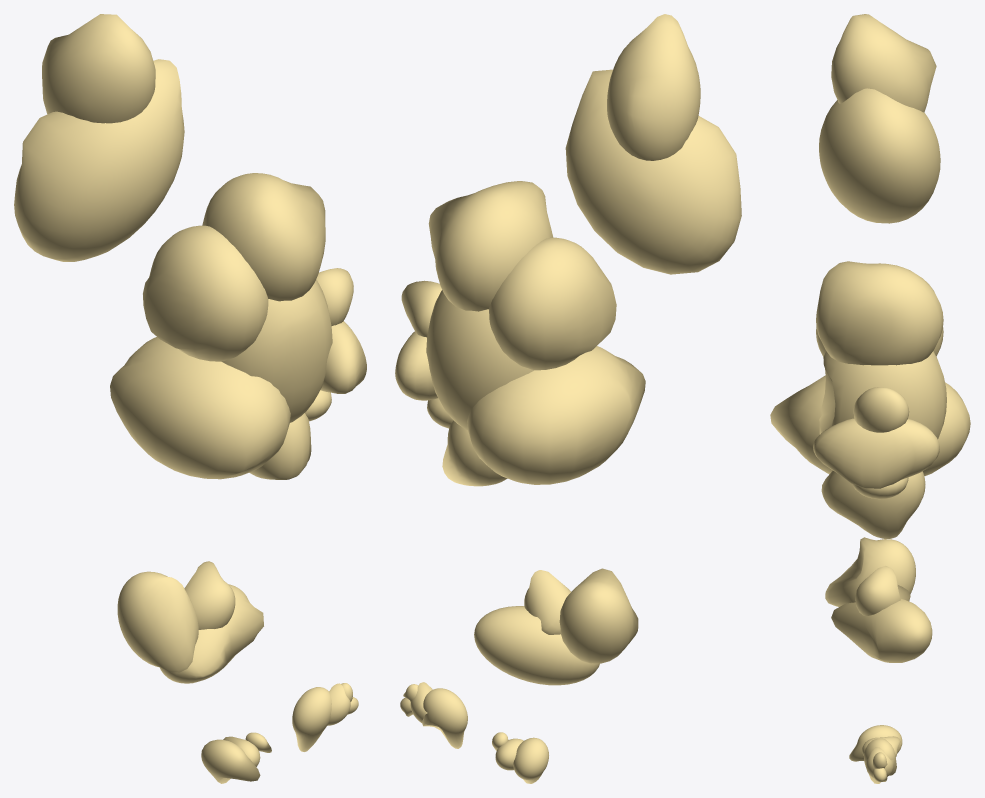
Rendered from aguaVapor.fbx.
The picture shows the model from 3 angles, left to right: view 1: azimuth 30°, elevation 25°; view 2: azimuth 150°, elevation 25°; view 3: azimuth 270°, elevation 25°; orthographic projection. The views are drawn at different scales.
Visible parts, largest first — view 1: pSphere20, pSphere4, pSphere2, pSphere3, pSphere21, pSphere1, pSphere9, pSphere10, pSphere11, pSphere7, pSphere5, pSphere13 (+3 smaller); view 2: pSphere20, pSphere4, pSphere2, pSphere3, pSphere21, pSphere1, pSphere10, pSphere9, pSphere5, pSphere7, pSphere11, pSphere13 (+2 smaller); view 3: pSphere20, pSphere3, pSphere21, pSphere7, pSphere1, pSphere4, pSphere10, pSphere5, pSphere9, pSphere8, pSphere11, pSphere18 (+2 smaller).
Boxes of the visible parts, x1=… form: pSphere20: x1=14, y1=59, x2=184, y2=261; pSphere4: x1=110, y1=337, x2=290, y2=479; pSphere2: x1=143, y1=225, x2=268, y2=361; pSphere3: x1=202, y1=173, x2=325, y2=301; pSphere21: x1=42, y1=14, x2=155, y2=123; pSphere1: x1=221, y1=279, x2=332, y2=422; pSphere9: x1=117, y1=571, x2=198, y2=672; pSphere10: x1=159, y1=584, x2=263, y2=683; pSphere11: x1=184, y1=561, x2=235, y2=629; pSphere7: x1=320, y1=321, x2=366, y2=393; pSphere5: x1=249, y1=413, x2=311, y2=479; pSphere13: x1=292, y1=687, x2=331, y2=751; pSphere20: x1=565, y1=69, x2=741, y2=274; pSphere4: x1=467, y1=346, x2=645, y2=484; pSphere2: x1=489, y1=237, x2=616, y2=370; pSphere3: x1=428, y1=181, x2=553, y2=311; pSphere21: x1=607, y1=14, x2=700, y2=160; pSphere1: x1=426, y1=290, x2=534, y2=430; pSphere10: x1=474, y1=606, x2=599, y2=685; pSphere9: x1=559, y1=568, x2=638, y2=663; pSphere5: x1=442, y1=420, x2=507, y2=486; pSphere7: x1=395, y1=331, x2=437, y2=400; pSphere11: x1=524, y1=570, x2=570, y2=634; pSphere13: x1=422, y1=688, x2=467, y2=748; pSphere20: x1=819, y1=88, x2=940, y2=223; pSphere3: x1=816, y1=261, x2=943, y2=365; pSphere21: x1=831, y1=14, x2=936, y2=112; pSphere7: x1=813, y1=418, x2=939, y2=488; pSphere1: x1=819, y1=351, x2=946, y2=439; pSphere4: x1=770, y1=375, x2=970, y2=476; pSphere10: x1=831, y1=599, x2=932, y2=662; pSphere5: x1=821, y1=470, x2=925, y2=538; pSphere9: x1=825, y1=537, x2=915, y2=606; pSphere8: x1=853, y1=387, x2=909, y2=432; pSphere11: x1=855, y1=566, x2=910, y2=615; pSphere18: x1=849, y1=725, x2=902, y2=761.
Size of the model in its own units: 11.64 by 26.5 by 6.91.
